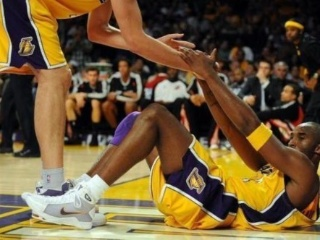10+: (3, 1, 320, 182)
down: (16, 44, 320, 228)
